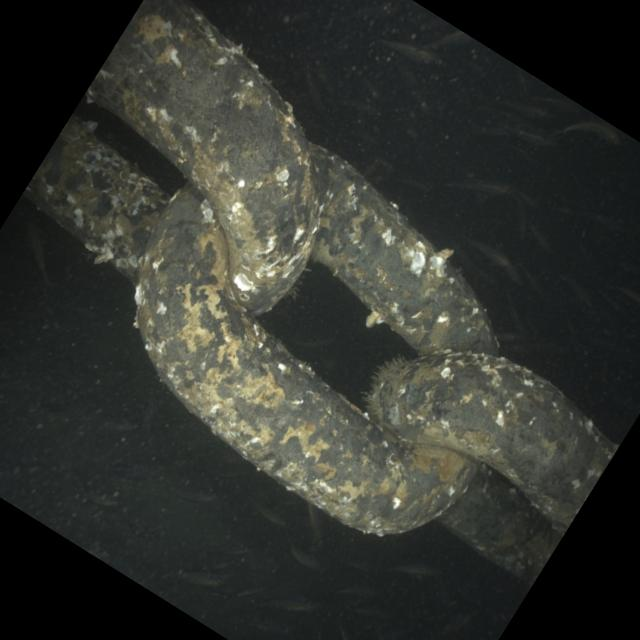ChainLink: (135, 186, 475, 535), (85, 0, 318, 310), (368, 351, 618, 584), (311, 148, 496, 354), (24, 115, 169, 281)
